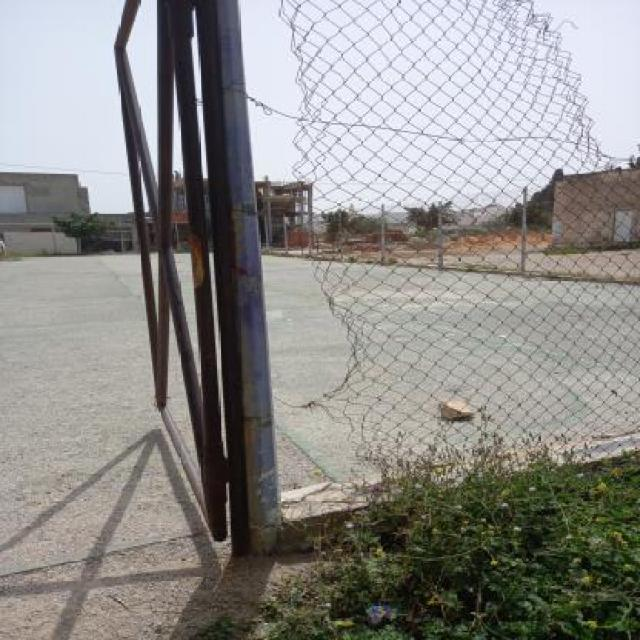fence line: (231, 2, 360, 531), (551, 8, 629, 160)
